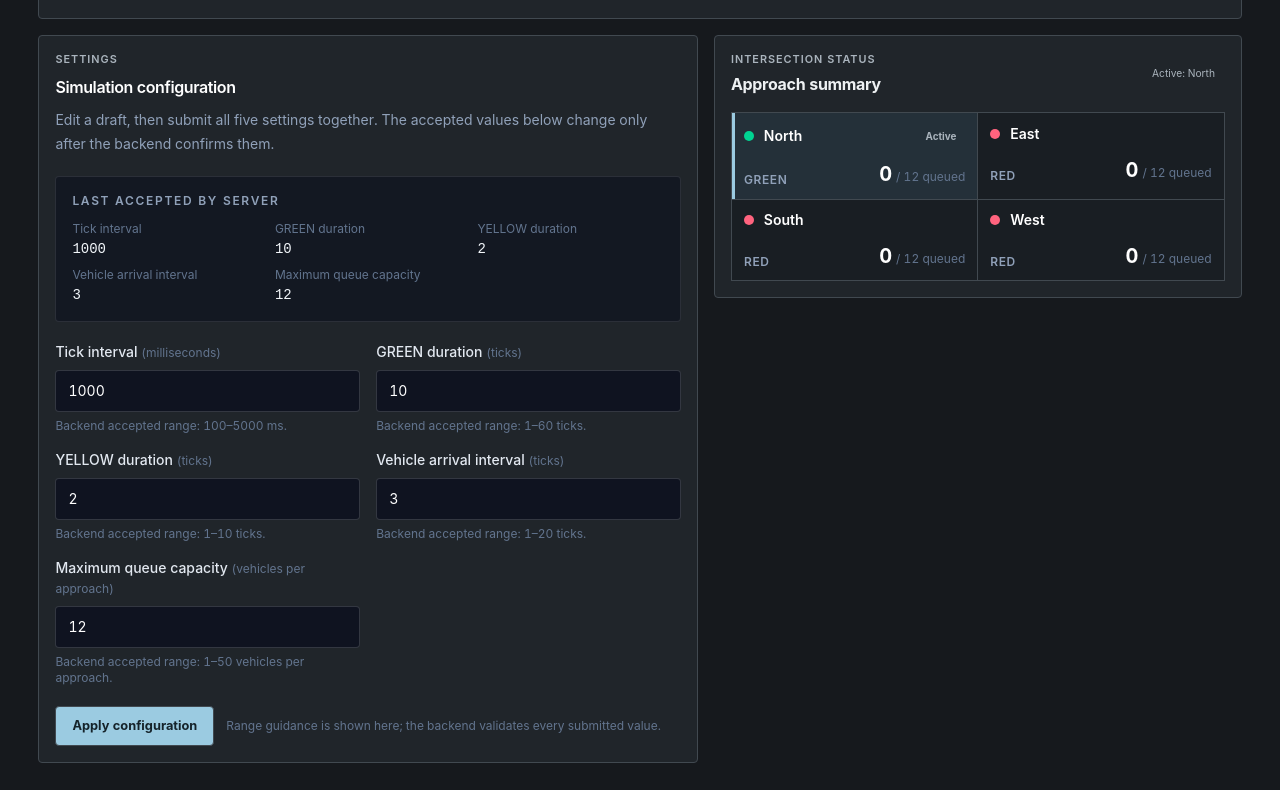
Test: simulation controls and configuration › submits all five fields and adopts the backend-accepted configuration
(page scrolled)
Expected: the heading "Simulation configuration" is shown, 55,77 -> 236,97
Step 1. Replace the text in the number field labelled "Tick interval (milliseconds)" with "450" → (208, 391), box 55,370 -> 360,412
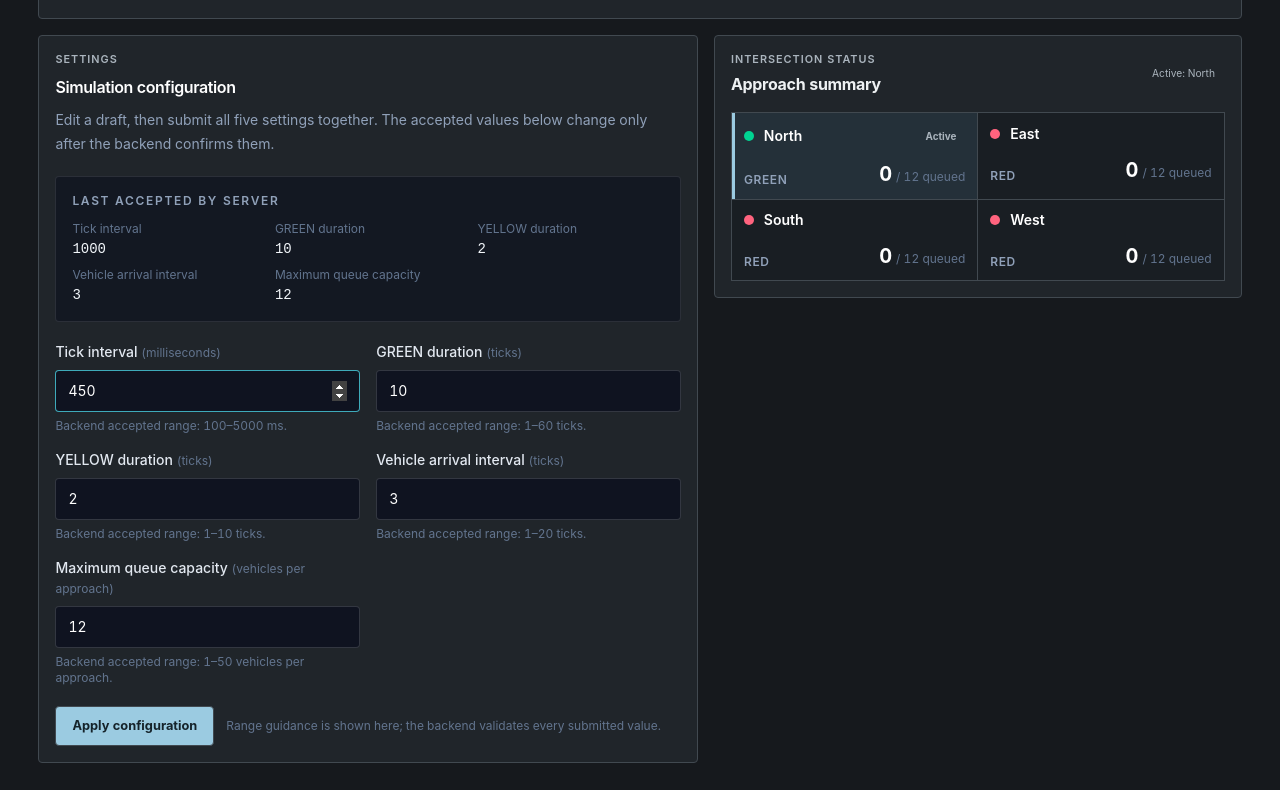
Step 2. Click the button "Apply configuration" → (135, 726), box 55,706 -> 214,746
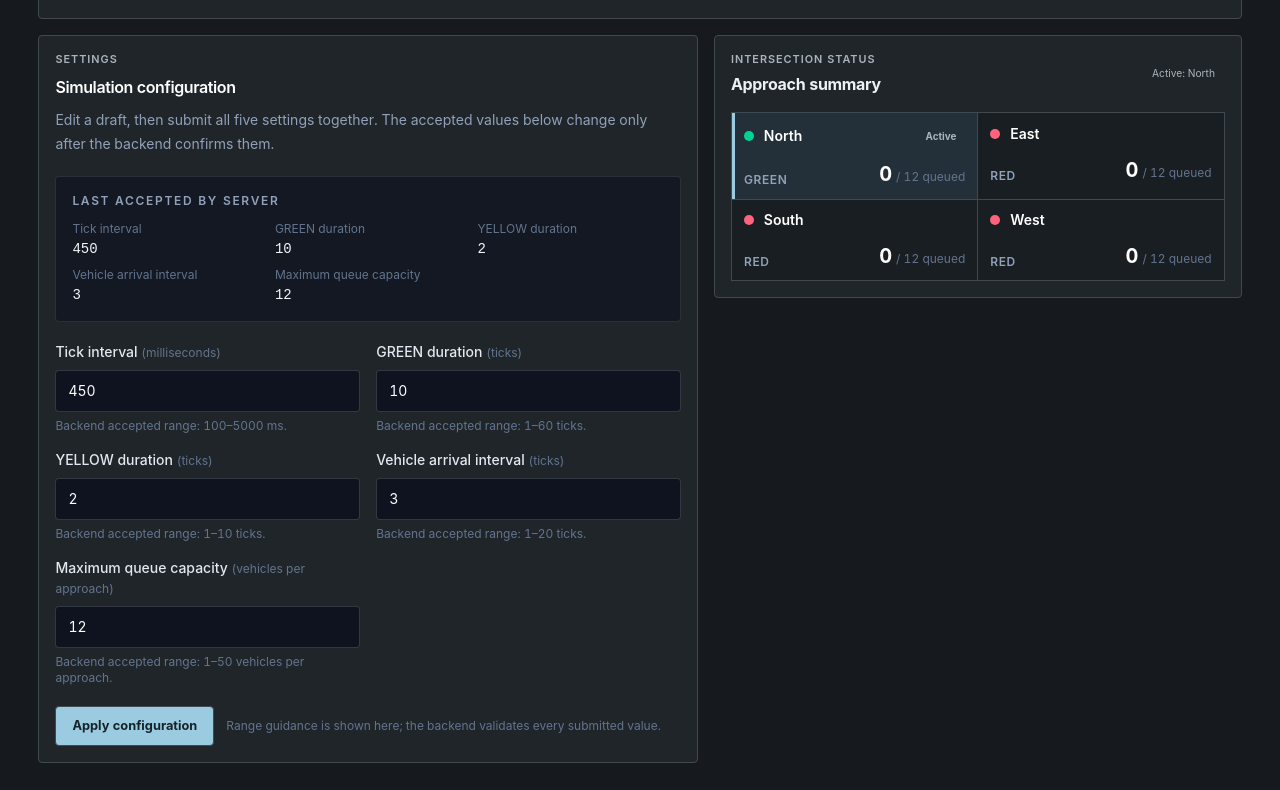
Expected: the text with test id "accepted-tickMs" reads "450", 72,241 -> 98,257
